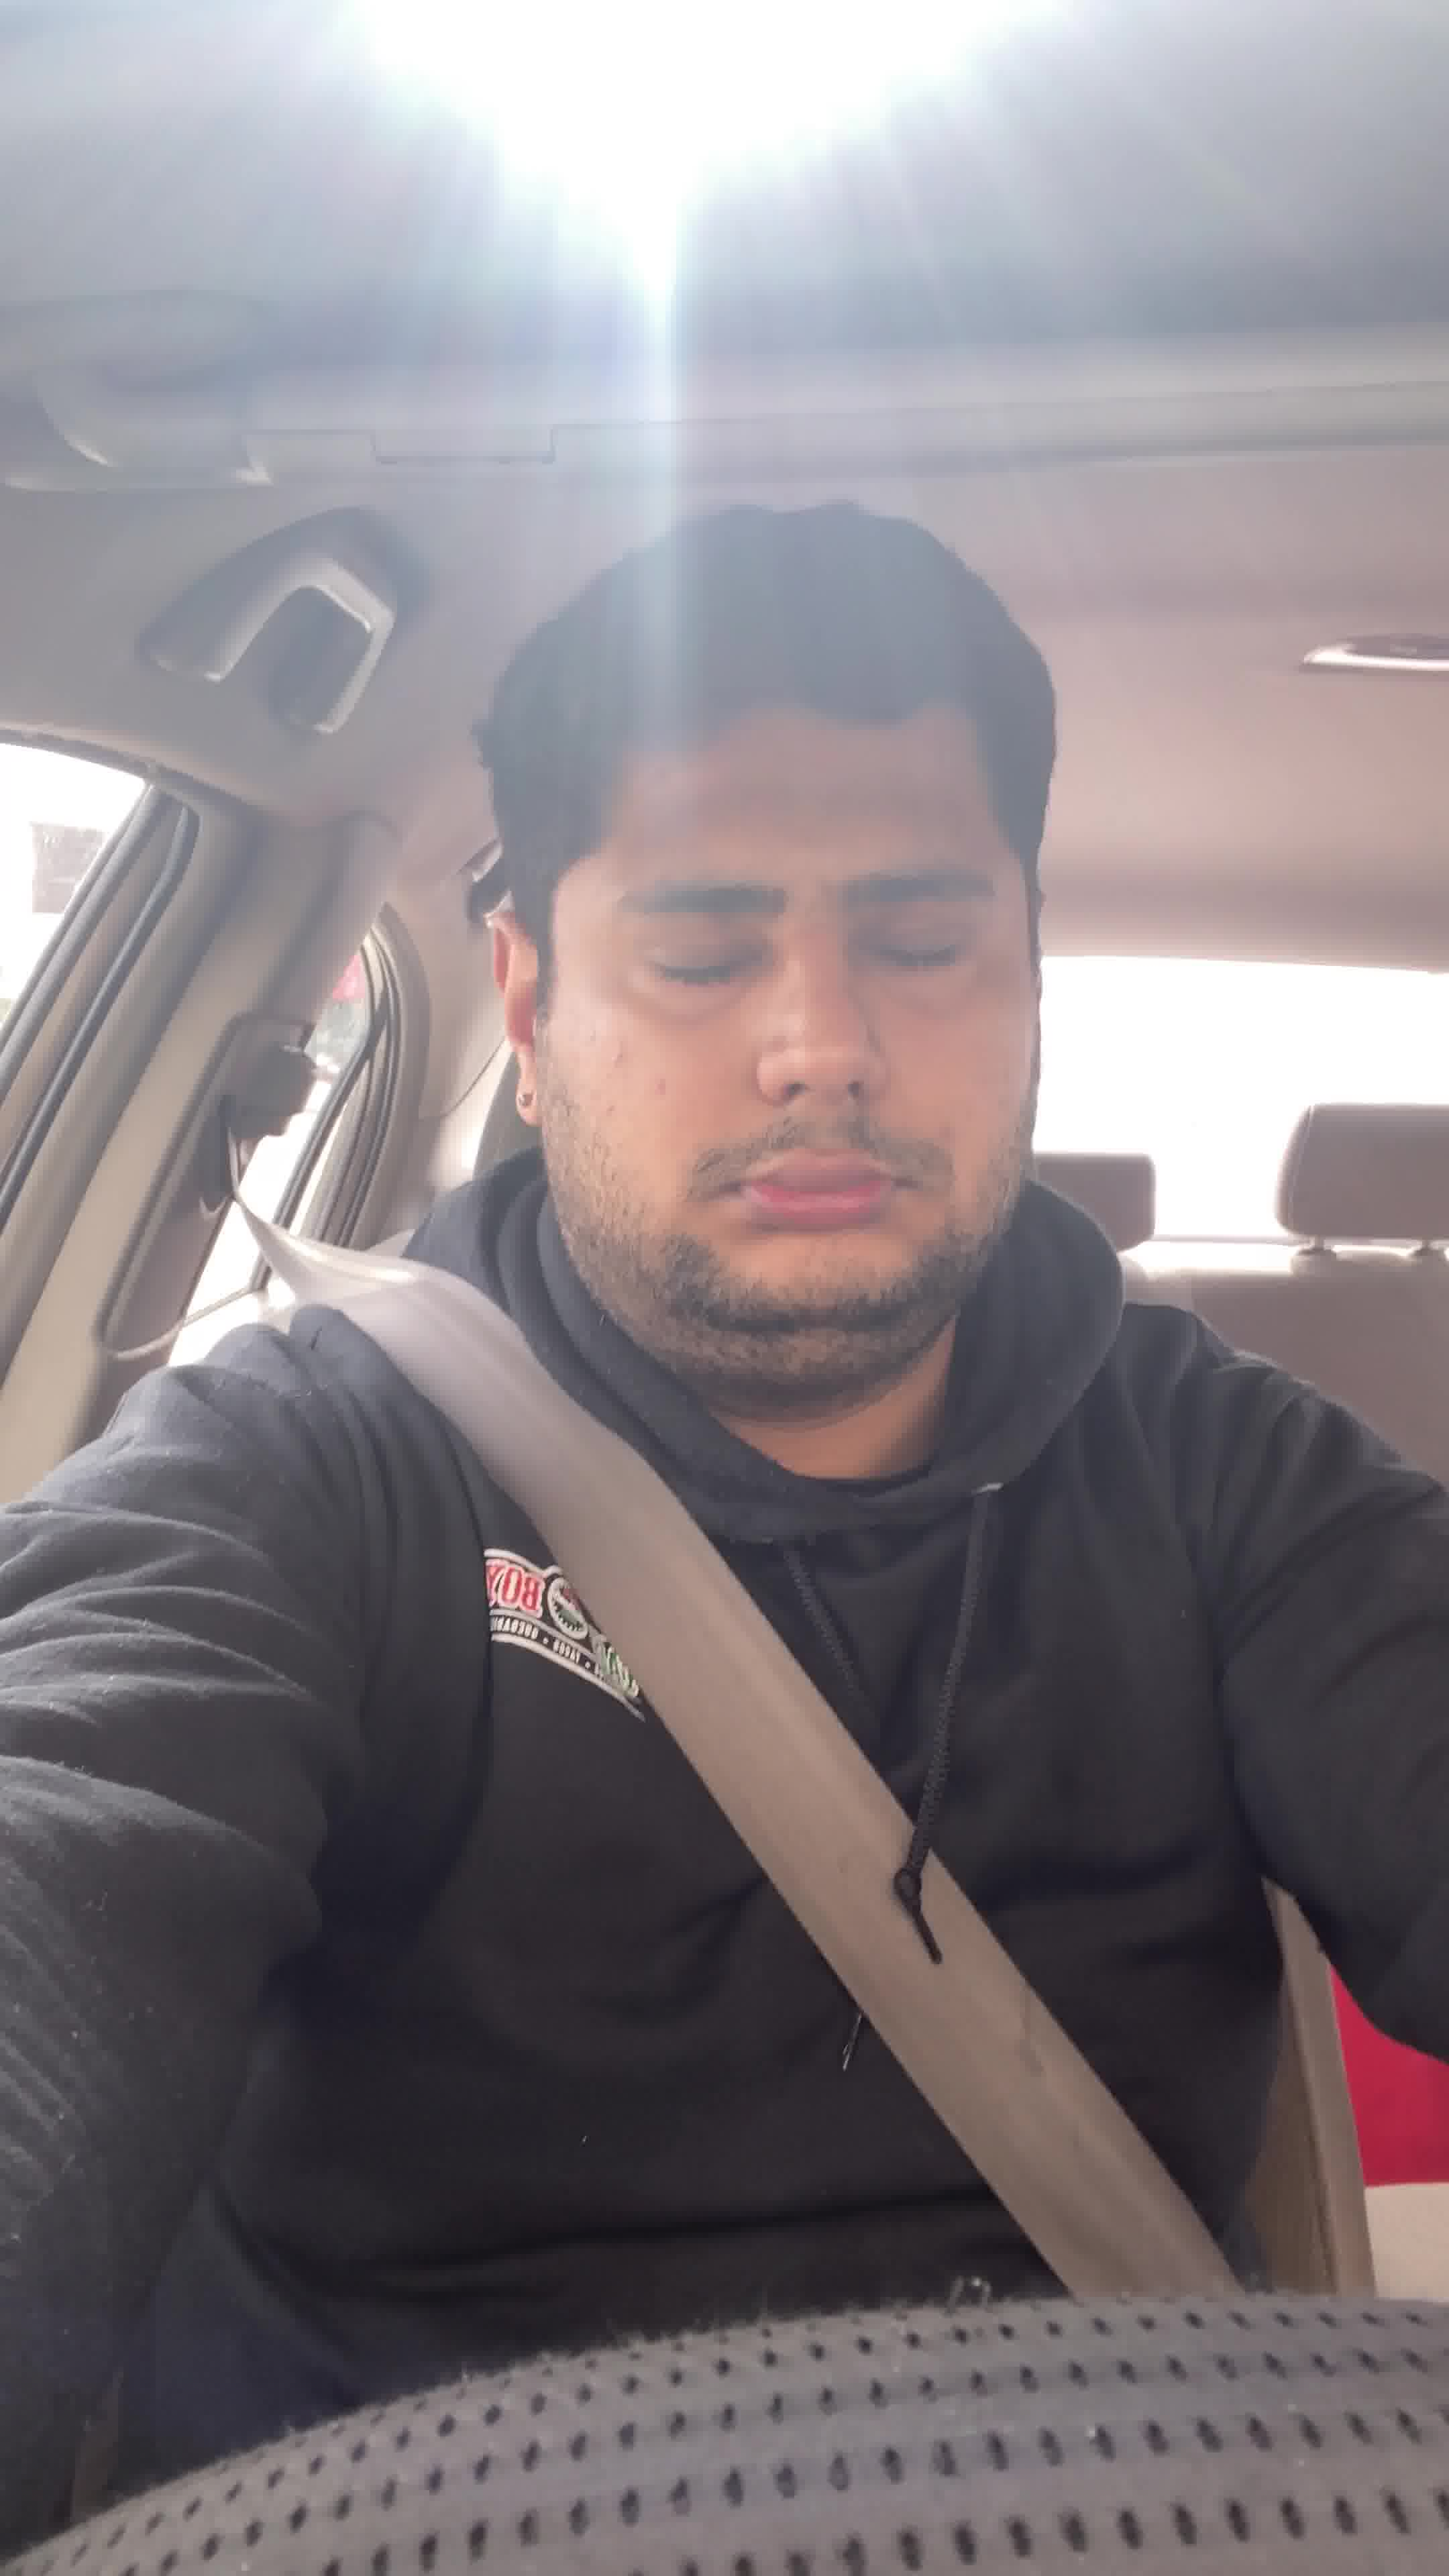seatbelt: (195, 1074, 1297, 2328)
